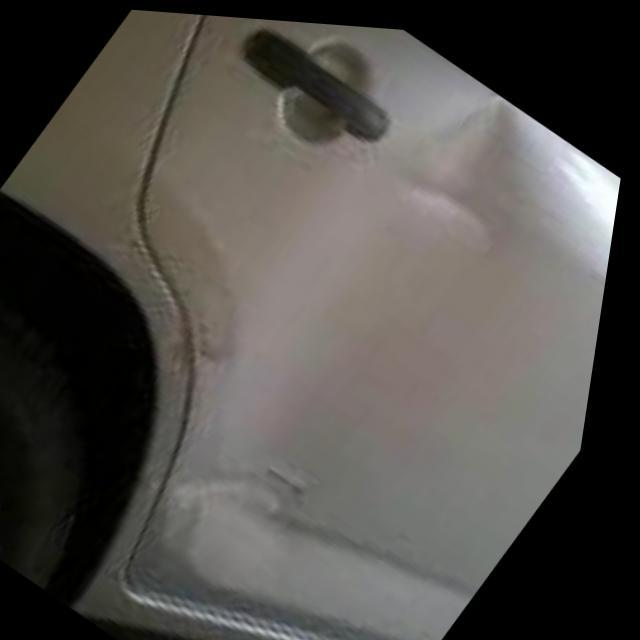dent: (371, 83, 541, 247), (150, 428, 325, 556)
dislocated part: (112, 197, 239, 384)
